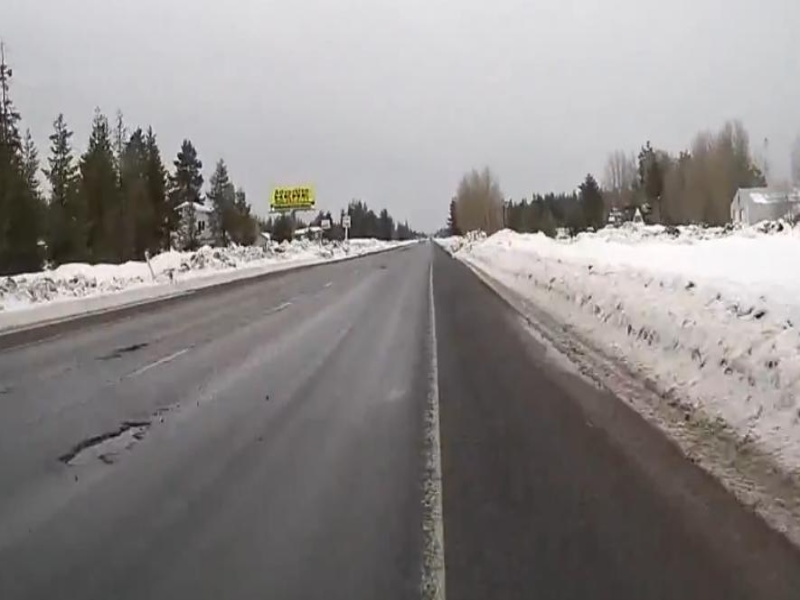pothole: (57, 413, 154, 486)
